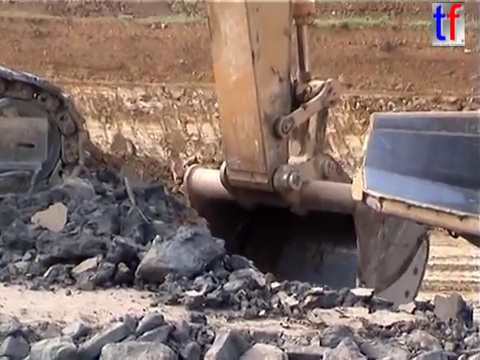excavator: (1, 1, 434, 360)
truck: (348, 106, 480, 253)
